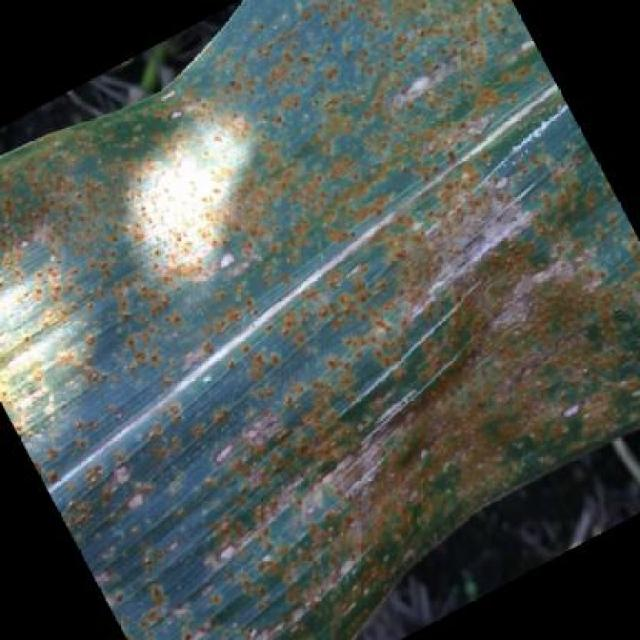Corn_Rust: (69, 91, 563, 538)
